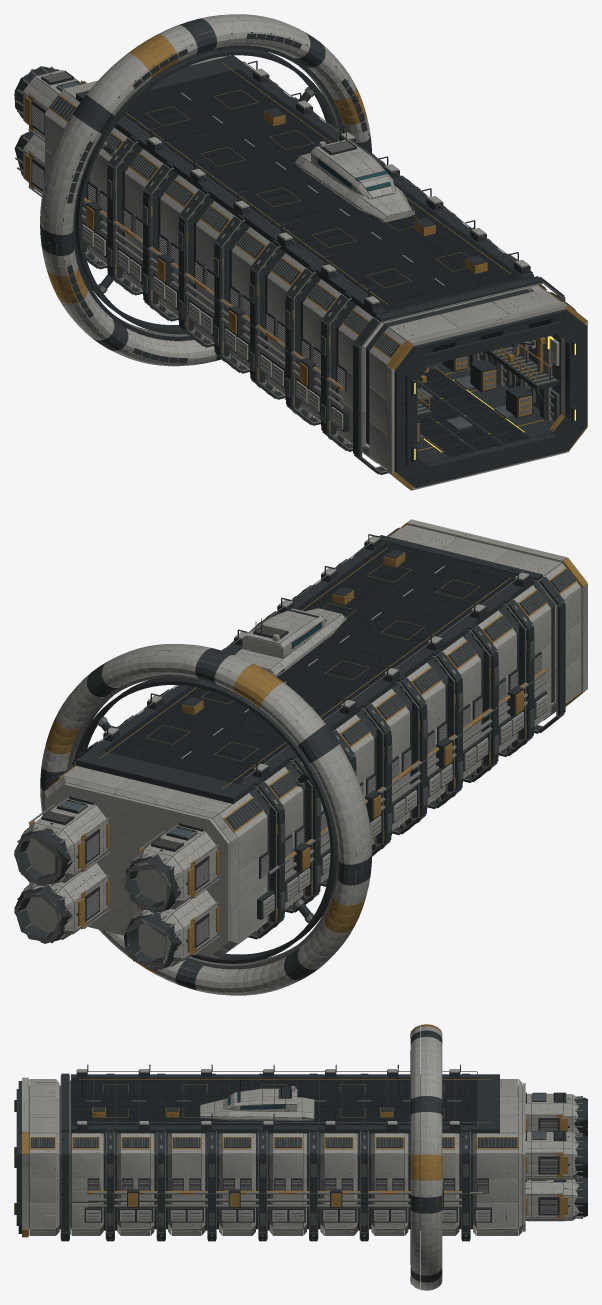
The model's file is model-reduced.glb.
3 views of the same model, one above another, from view 1: azimuth 30°, elevation 25°; view 2: azimuth 150°, elevation 25°; view 3: azimuth 270°, elevation 25° (orthographic). The views are drawn at different scales.
Parts seen in each view (by area): view 1: dark-structure, flight-deck, pale-steel-0, machined-alloy, rotor:dark-structure, ochre-0, rotor:pale-steel-0, pale-steel-1, rotor:pale-steel-2, rotor:pale-steel-1, armour-2, rotor:ochre-0 (+3 smaller); view 2: dark-structure, pale-steel-0, flight-deck, machined-alloy, bastion-aft-bulkhead, rotor:pale-steel-0, ochre-0, rotor:pale-steel-2, rotor:pale-steel-1, rotor:dark-structure, pale-steel-1, rotor:ochre-0 (+3 smaller); view 3: pale-steel-0, dark-structure, flight-deck, machined-alloy, pale-steel-1, rotor:pale-steel-1, ochre-0, rotor:pale-steel-0, rotor:dark-structure, armour-2, rotor:ochre-0, pale-steel-2 (+2 smaller).
Part boxes in pixels (box(x1,y1,x2,y2)): dark-structure: box(14, 48, 586, 487); flight-deck: box(122, 69, 529, 456); pale-steel-0: box(23, 56, 587, 490); machined-alloy: box(14, 61, 575, 473); rotor:dark-structure: box(40, 18, 371, 363); ochre-0: box(25, 56, 587, 490); rotor:pale-steel-0: box(40, 43, 370, 235); pale-steel-1: box(82, 68, 559, 429); rotor:pale-steel-2: box(86, 25, 216, 366); rotor:pale-steel-1: box(41, 14, 360, 340); armour-2: box(107, 179, 559, 439); rotor:ochre-0: box(46, 34, 366, 303); dark-structure: box(14, 527, 576, 970); pale-steel-0: box(23, 519, 587, 966); flight-deck: box(102, 542, 517, 783); machined-alloy: box(14, 528, 574, 969); bastion-aft-bulkhead: box(45, 783, 230, 956); rotor:pale-steel-0: box(41, 673, 372, 984); ochre-0: box(29, 519, 587, 956); rotor:pale-steel-2: box(195, 655, 325, 995); rotor:pale-steel-1: box(40, 644, 370, 969); rotor:dark-structure: box(40, 648, 372, 990); pale-steel-1: box(104, 536, 547, 917); rotor:ochre-0: box(45, 664, 365, 974); pale-steel-0: box(22, 1077, 579, 1235); dark-structure: box(14, 1064, 587, 1241); flight-deck: box(71, 1077, 477, 1125); machined-alloy: box(32, 1071, 587, 1240); pale-steel-1: box(77, 1069, 490, 1221); rotor:pale-steel-1: box(410, 1036, 442, 1275); ochre-0: box(22, 1079, 567, 1237); rotor:pale-steel-0: box(410, 1112, 442, 1290); rotor:dark-structure: box(410, 1030, 442, 1283); armour-2: box(107, 1164, 468, 1225); rotor:ochre-0: box(410, 1024, 442, 1180); pale-steel-2: box(200, 1088, 302, 1120).
Size of the model in its own units: 189 by 189 by 407.
14 materials, 12 textured.
